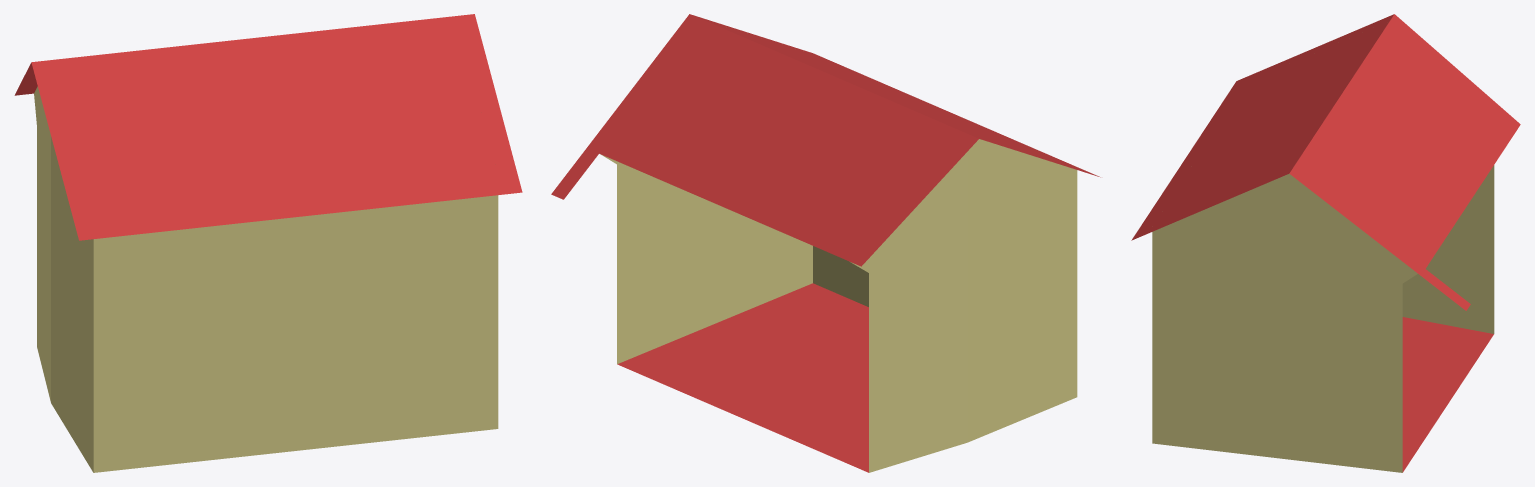
3 renders of one model, left to right at view 1: azimuth 30°, elevation 25°; view 2: azimuth 150°, elevation 25°; view 3: azimuth 270°, elevation 25°, orthographic. The views are drawn at different scales.
Size of the model in its own units: 20.65 by 17.07 by 14.19.
